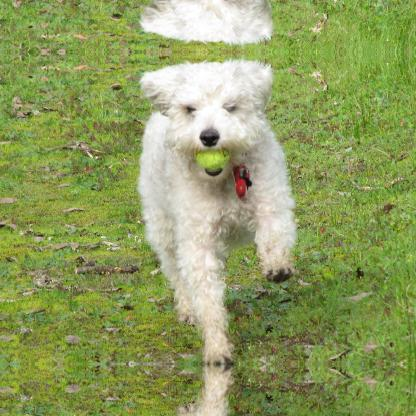Dog: (135, 59, 297, 363)
